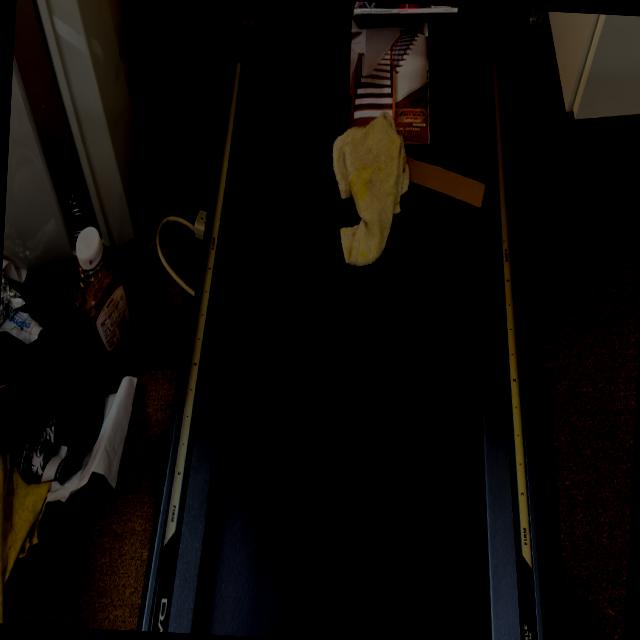Recycle: (344, 6, 437, 139), (394, 143, 492, 215)
Trash: (325, 116, 414, 276)
